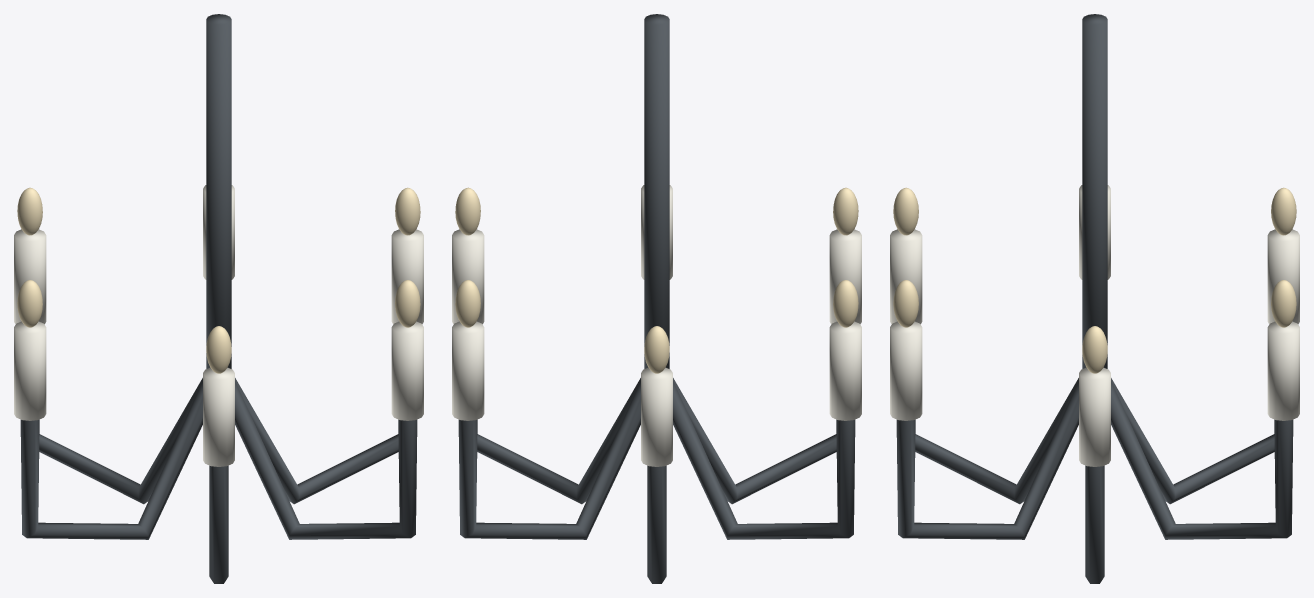
The model's file is atelier-chandelier.glb.
3 renders of one model, left to right at view 1: azimuth 30°, elevation 25°; view 2: azimuth 150°, elevation 25°; view 3: azimuth 270°, elevation 25°, orthographic.
Parts seen in each view (by area): view 1: metal.073, ceramic.033, bulb.007; view 2: metal.073, ceramic.033, bulb.007; view 3: metal.073, ceramic.033, bulb.007.
Part boxes in pixels (<box>): metal.073: <box>20,14,417,583</box>; ceramic.033: <box>14,185,423,466</box>; bulb.007: <box>17,187,420,373</box>; metal.073: <box>458,14,855,583</box>; ceramic.033: <box>452,185,861,466</box>; bulb.007: <box>455,187,858,373</box>; metal.073: <box>896,14,1293,583</box>; ceramic.033: <box>890,185,1299,466</box>; bulb.007: <box>893,187,1296,373</box>.
Bounding box in the file's own units: 0.73 × 0.8619 × 0.6389.
